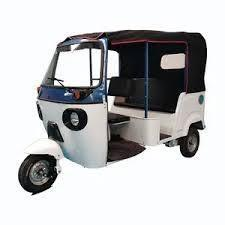keke: (18, 26, 214, 204)
